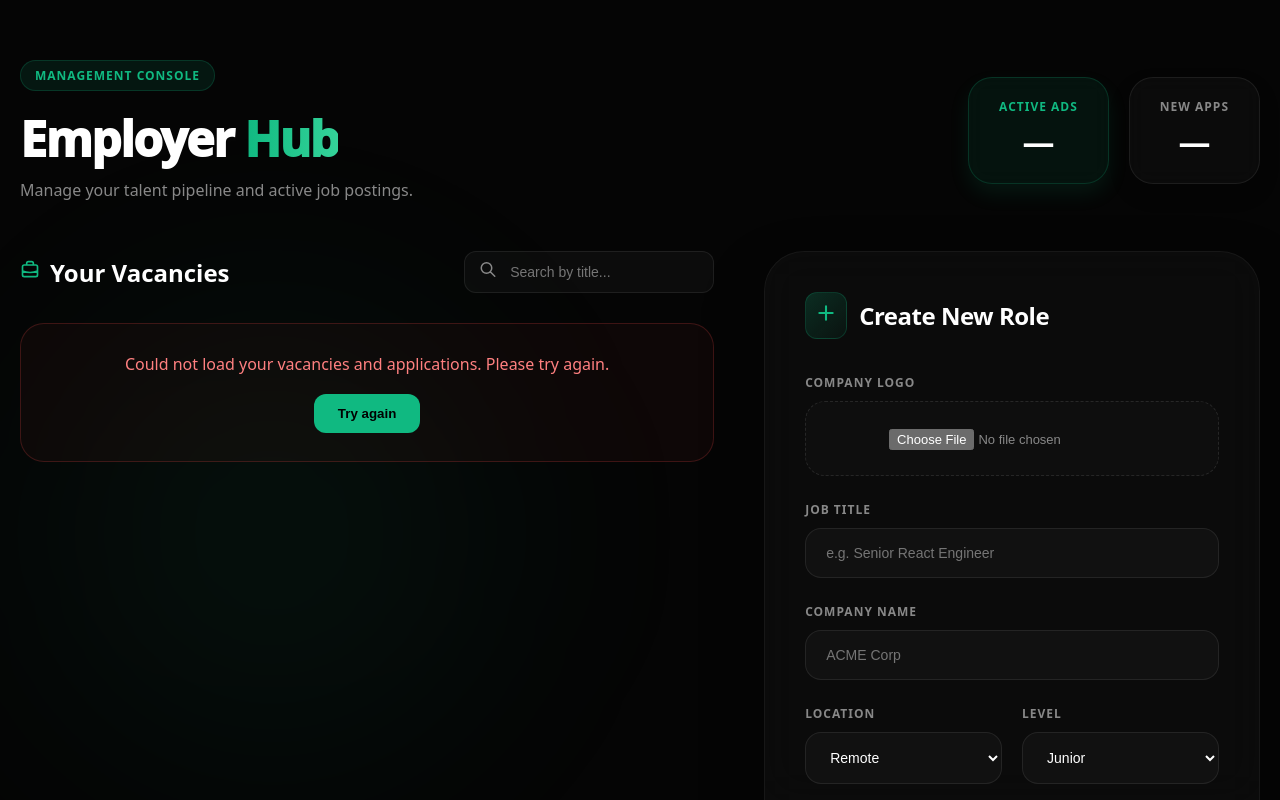
Test case: recovers /jobs/mine after failures without claiming the list is empty
This screenshot has width=1280, height=800.
Expected: the message "Could not load your vacancies and applications. Please try again." is shown, left=125, top=353, right=609, bottom=375
Type "My unsaved role" into the field with placeholder "e.g. Senior React Engineer" at (1012, 553), box left=805, top=528, right=1219, bottom=578
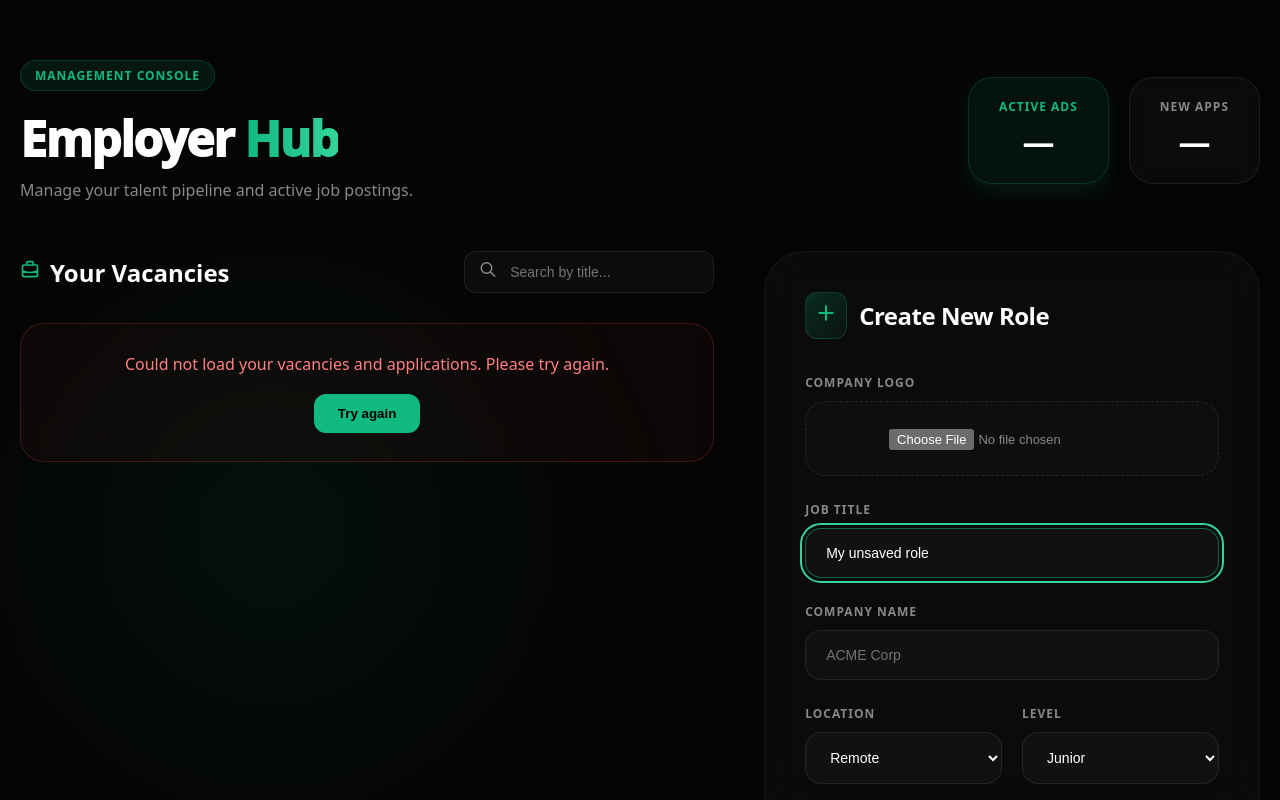
Click the button "Try again" at (367, 413), box left=314, top=394, right=420, bottom=433
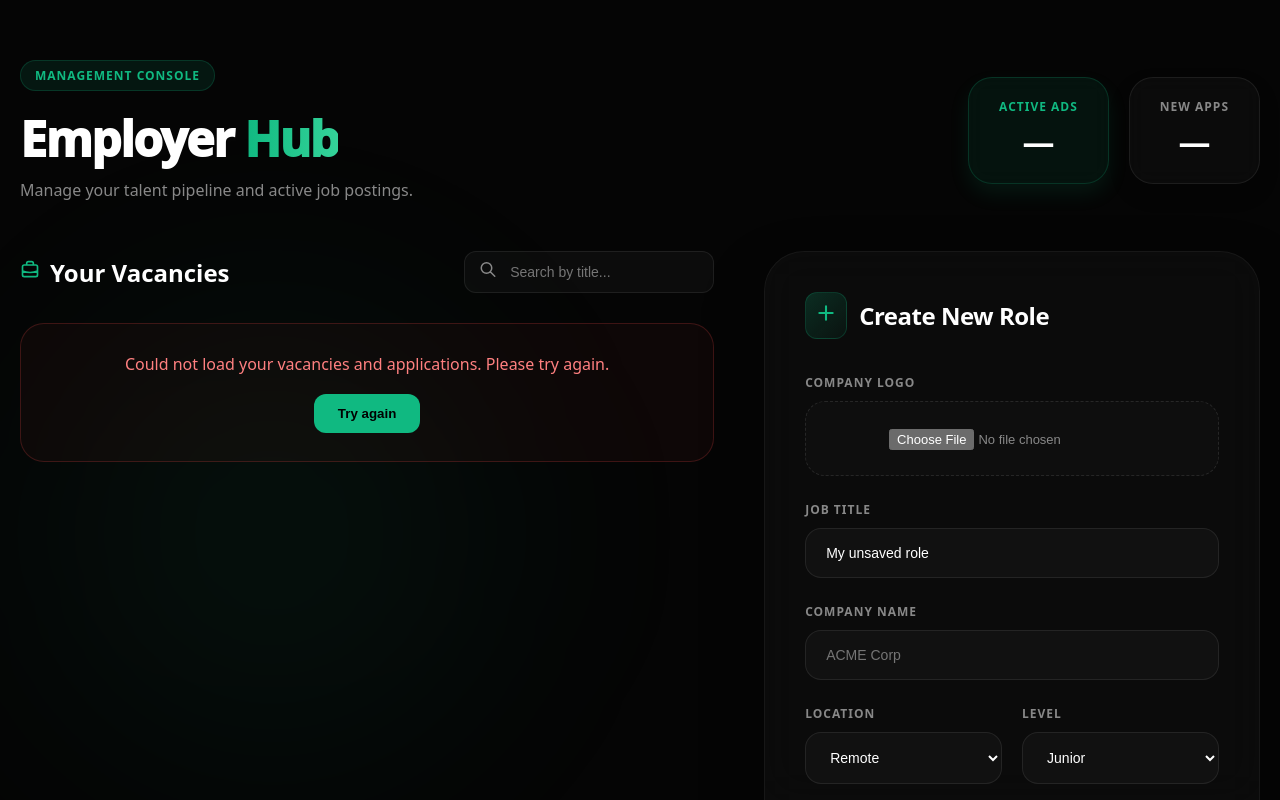
Expected: the message "Could not load your vacancies and applications. Please try again." is shown, left=125, top=353, right=609, bottom=375
Click the button "Try again" at (367, 413), box left=314, top=394, right=420, bottom=433
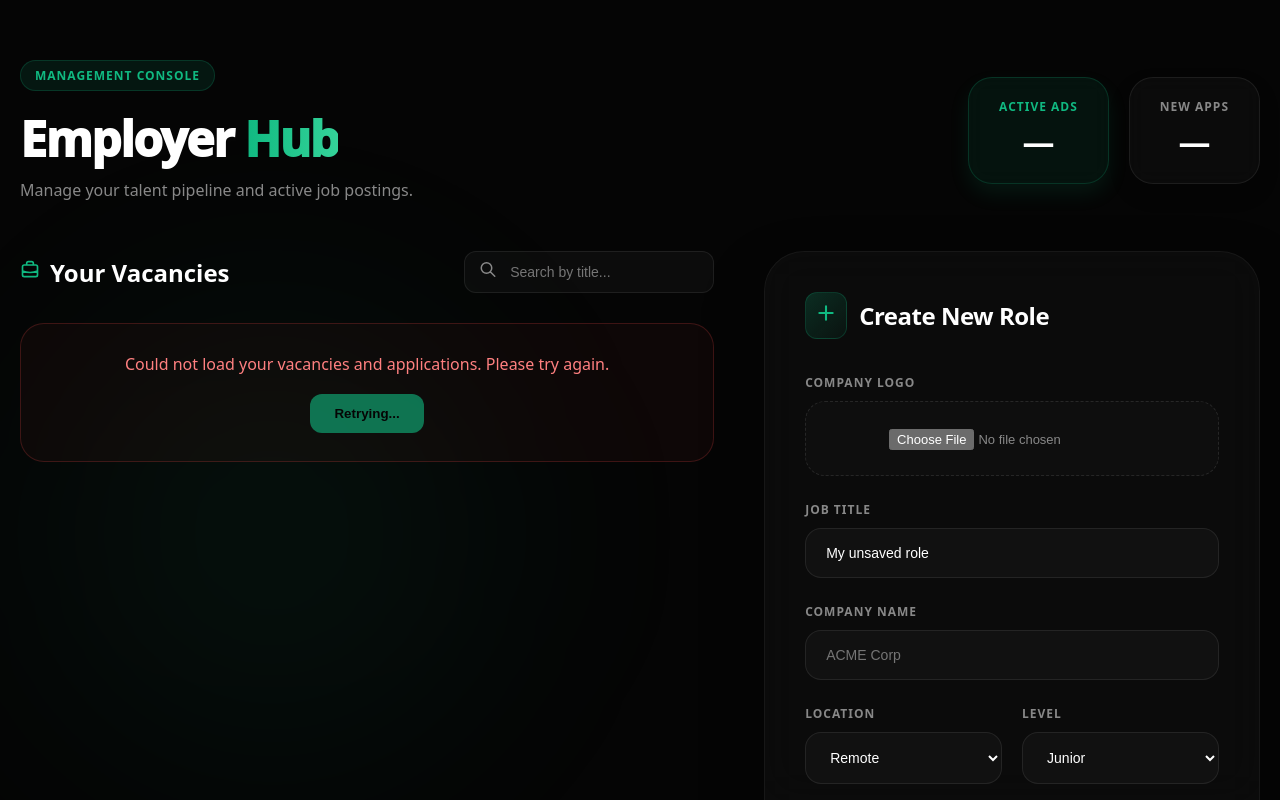
Expected: the button "Retrying..." is disabled
Click the button "Retrying..." at (367, 413), box left=310, top=394, right=424, bottom=433
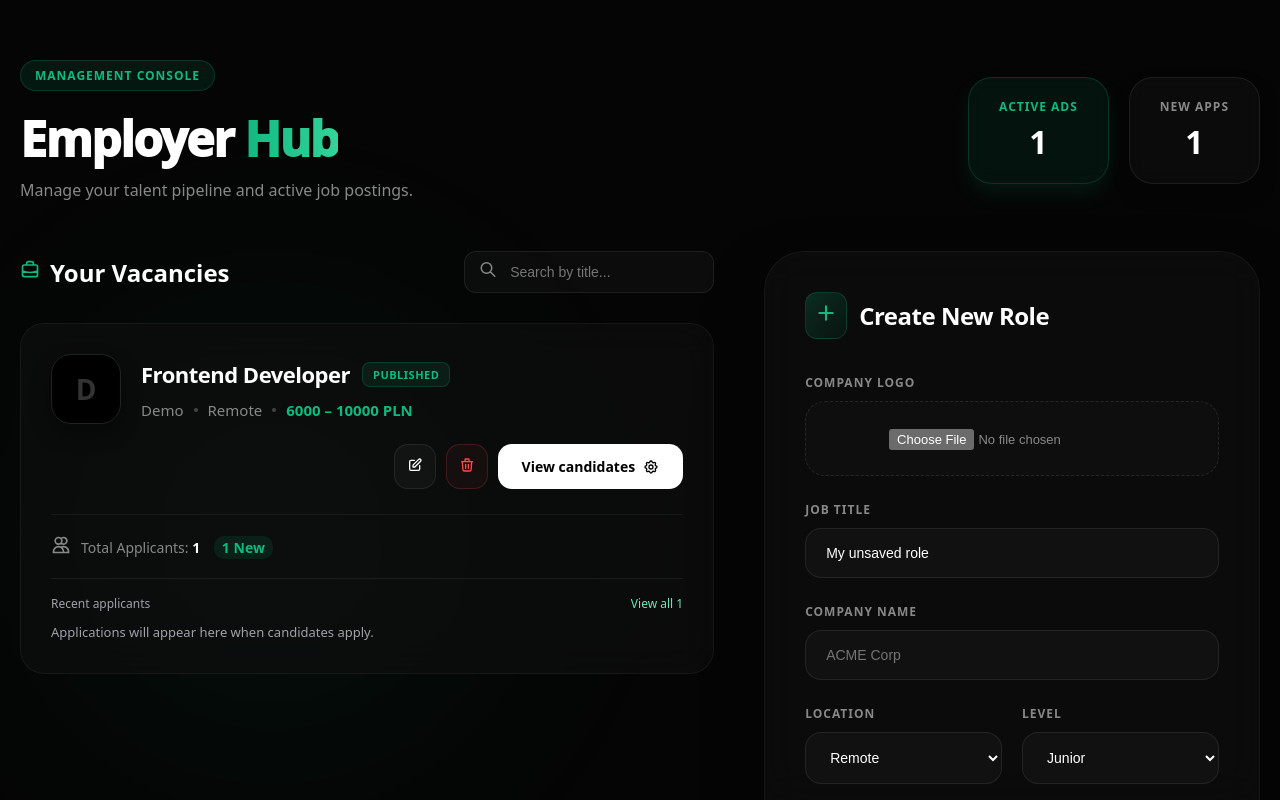
Expected: the heading "Frontend Developer" is shown, left=141, top=359, right=350, bottom=389
Expected: the message "Could not load your vacancies and applications. Please try again." is gone
